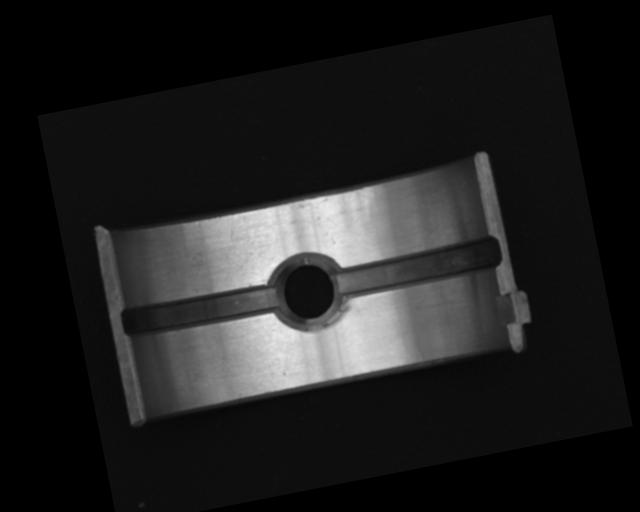gap: (333, 231, 503, 302), (119, 279, 282, 339)
hole: (263, 243, 353, 340)
